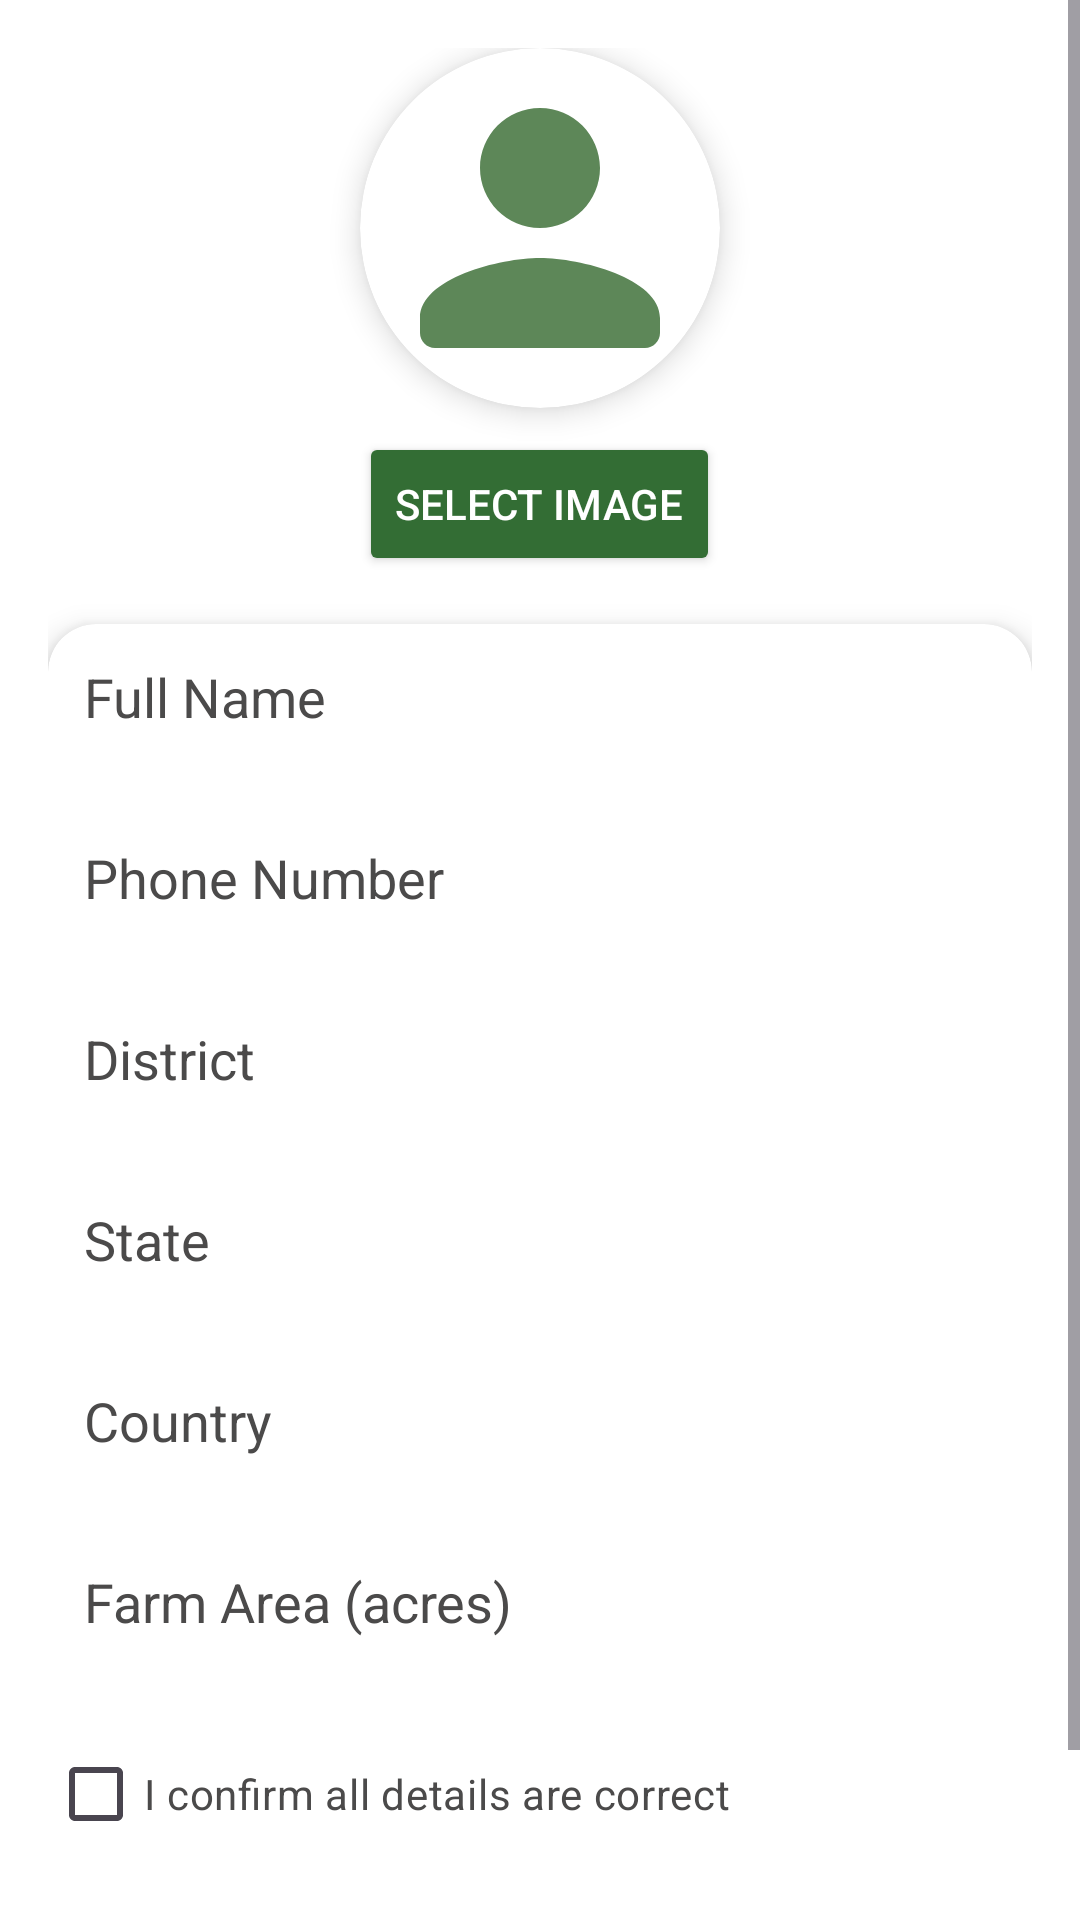

Named icons in this screenshot (1080x1920) and their centers, [x,y]:
User Image: [527,258]
